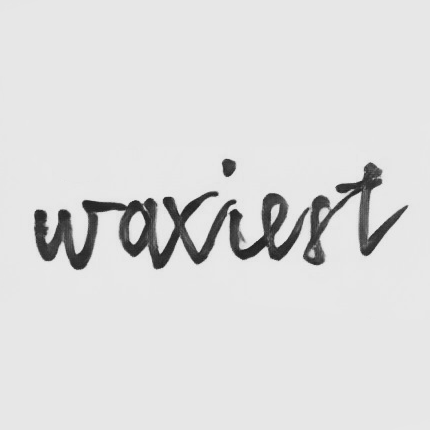a: (116, 197, 159, 265)
e: (257, 191, 292, 263)
i: (221, 158, 252, 263)
s: (297, 191, 334, 269)
t: (347, 160, 409, 258)
w: (31, 198, 101, 272)
x: (160, 189, 221, 267)
